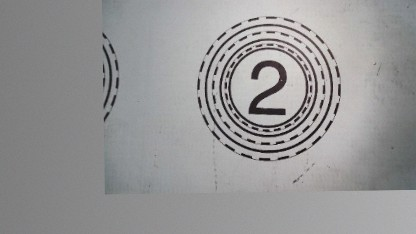2r: (194, 14, 342, 162)
